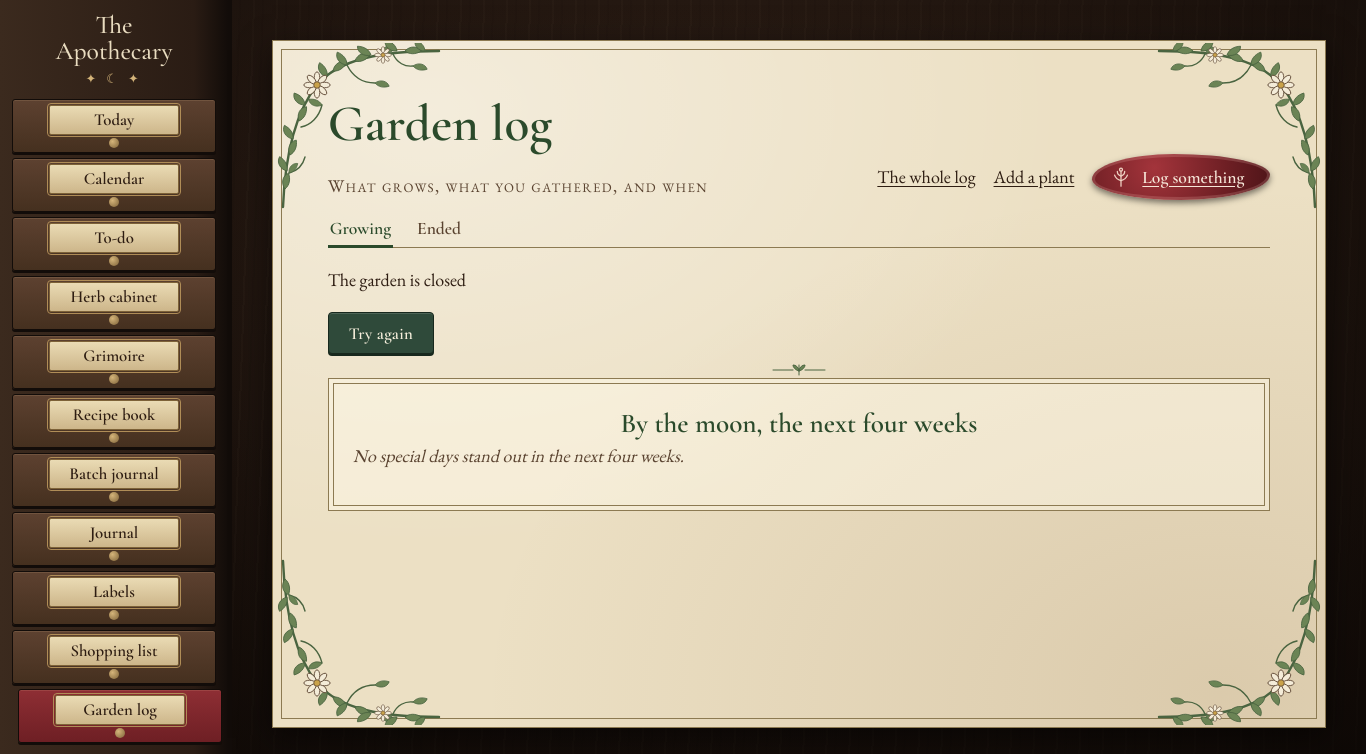
Test case: shows an error with Try again for the plant list
Check: the text "The garden is closed" is shown, box [328,268,466,291]
Click the button "Try again" at (381, 333), box [328,312,434,354]
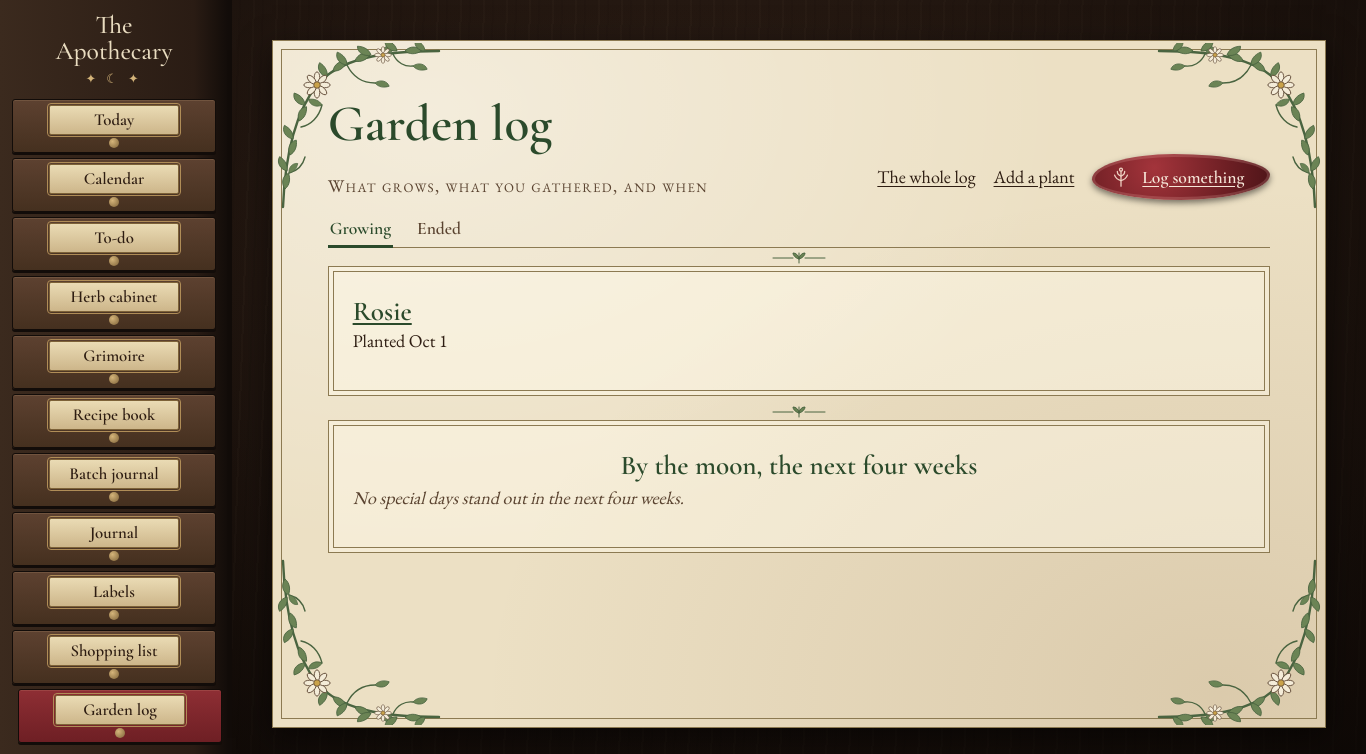
Check: the link "Rosie" is shown, box [353,295,412,328]
